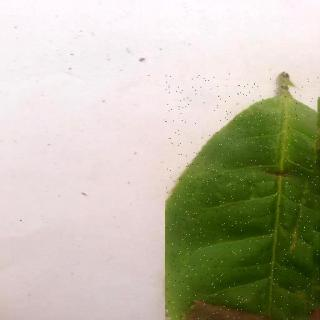Brown Blight: (166, 75, 320, 320)
